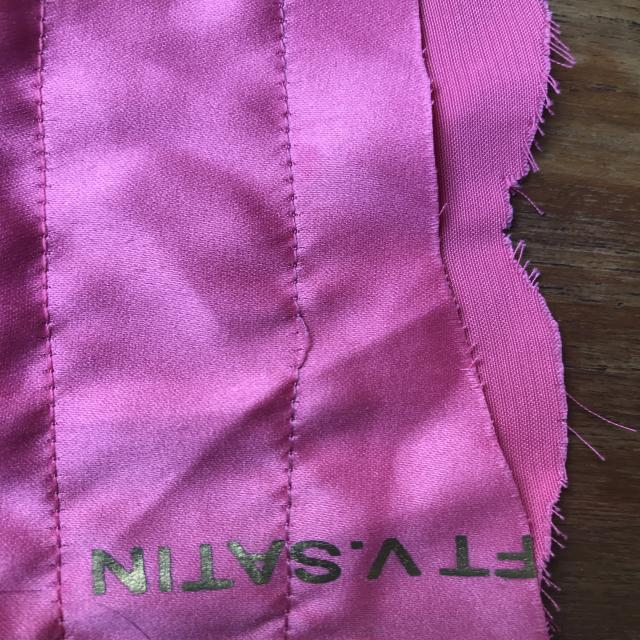skip: (274, 292, 326, 382)
